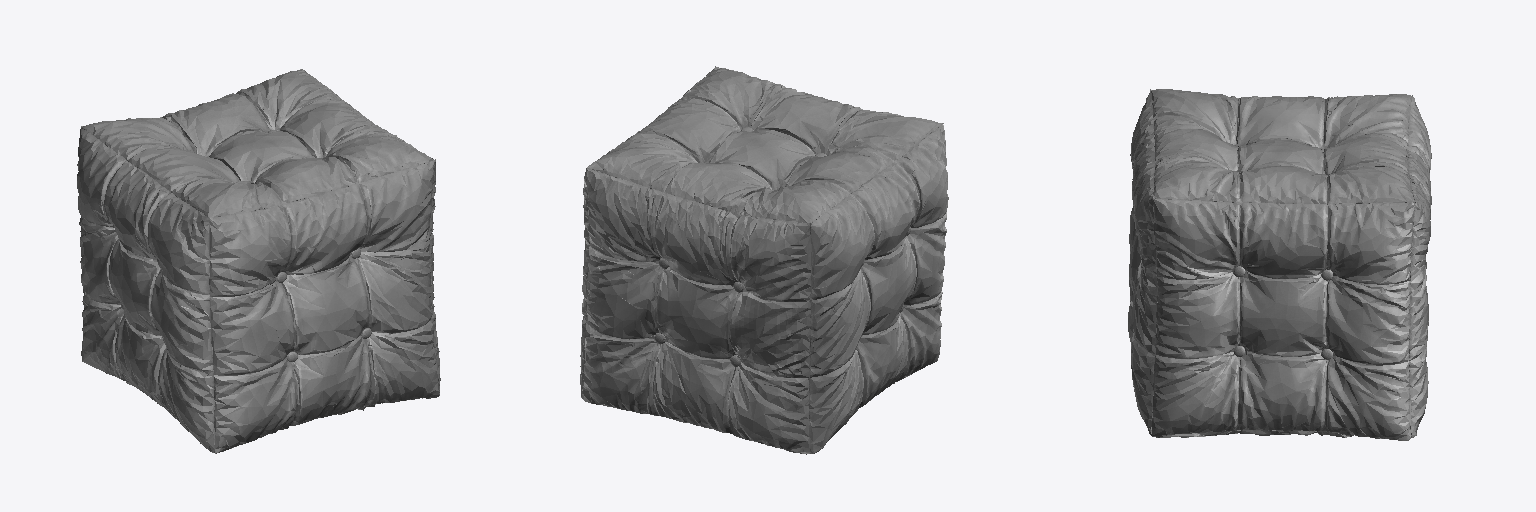
3 views of the same model, side by side, from view 1: azimuth 30°, elevation 25°; view 2: azimuth 150°, elevation 25°; view 3: azimuth 270°, elevation 25° (orthographic).
Parts seen in each view (by area): view 1: solid_001; view 2: solid_001; view 3: solid_001.
Part boxes in pixels (bbox=[...]): solid_001: bbox=[77, 69, 440, 453]; solid_001: bbox=[580, 66, 948, 454]; solid_001: bbox=[1128, 89, 1431, 440].
Bounding box in the file's own units: 0.4119 × 0.3733 × 0.4064.
1 materials, 1 textured.